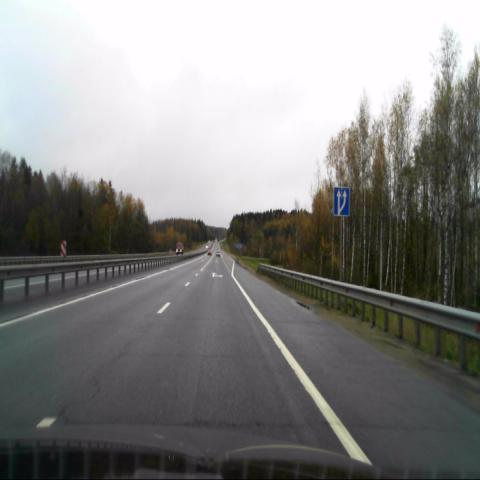5_15_3: (334, 187, 350, 216)
